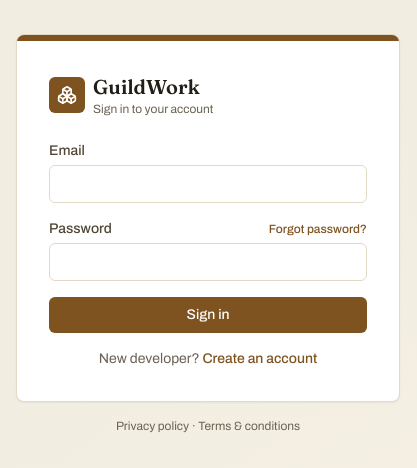
it: LoginPage › shows a validation error and makes no request when submitted empty
Click the button "Sign in" at point(208, 315), box x1=49 y1=297 x2=367 y2=333
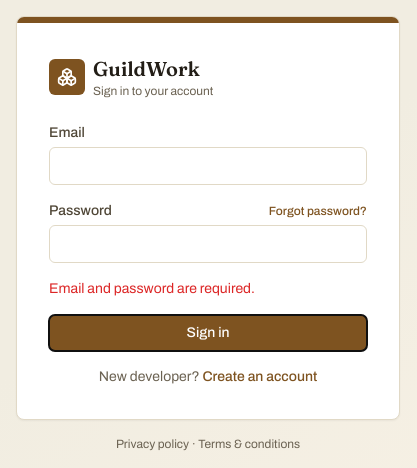
Check: the message shows "required", box x1=49 y1=281 x2=255 y2=296
